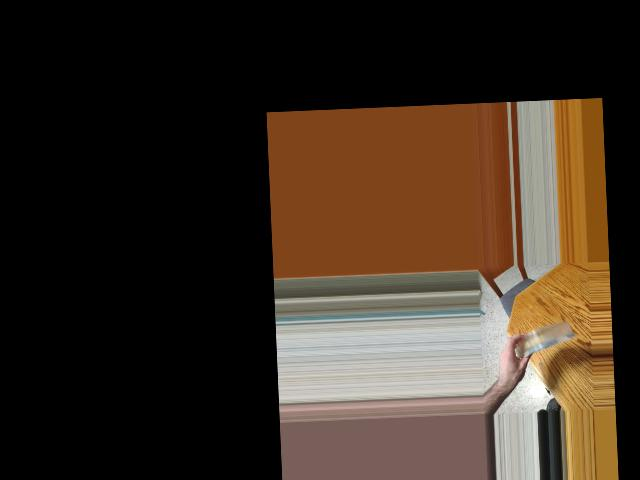cheese: (507, 324, 576, 352)
